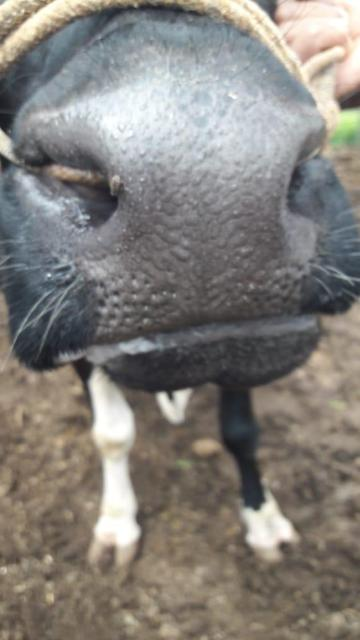Muzzle: (89, 91, 301, 303)
